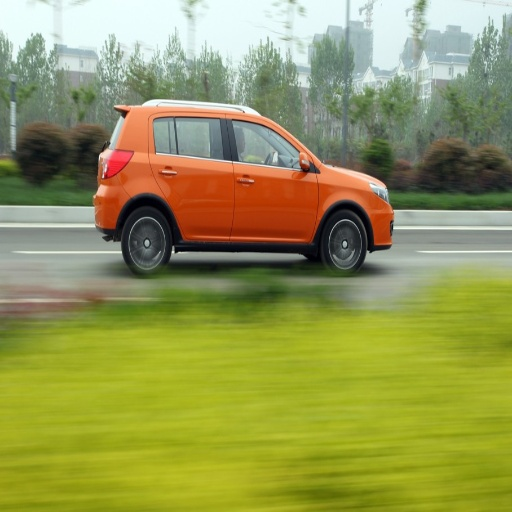back_right_door: (153, 114, 234, 243)
front_right_door: (230, 114, 317, 239)
